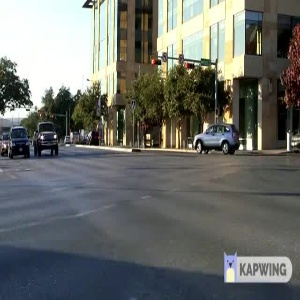suv: (184, 120, 250, 157)
truck: (33, 119, 62, 159)
van: (7, 124, 32, 162)
